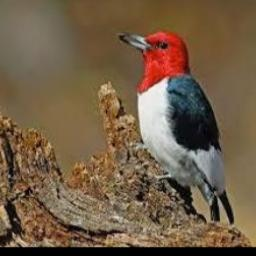Woodpecker: (119, 31, 235, 225)
